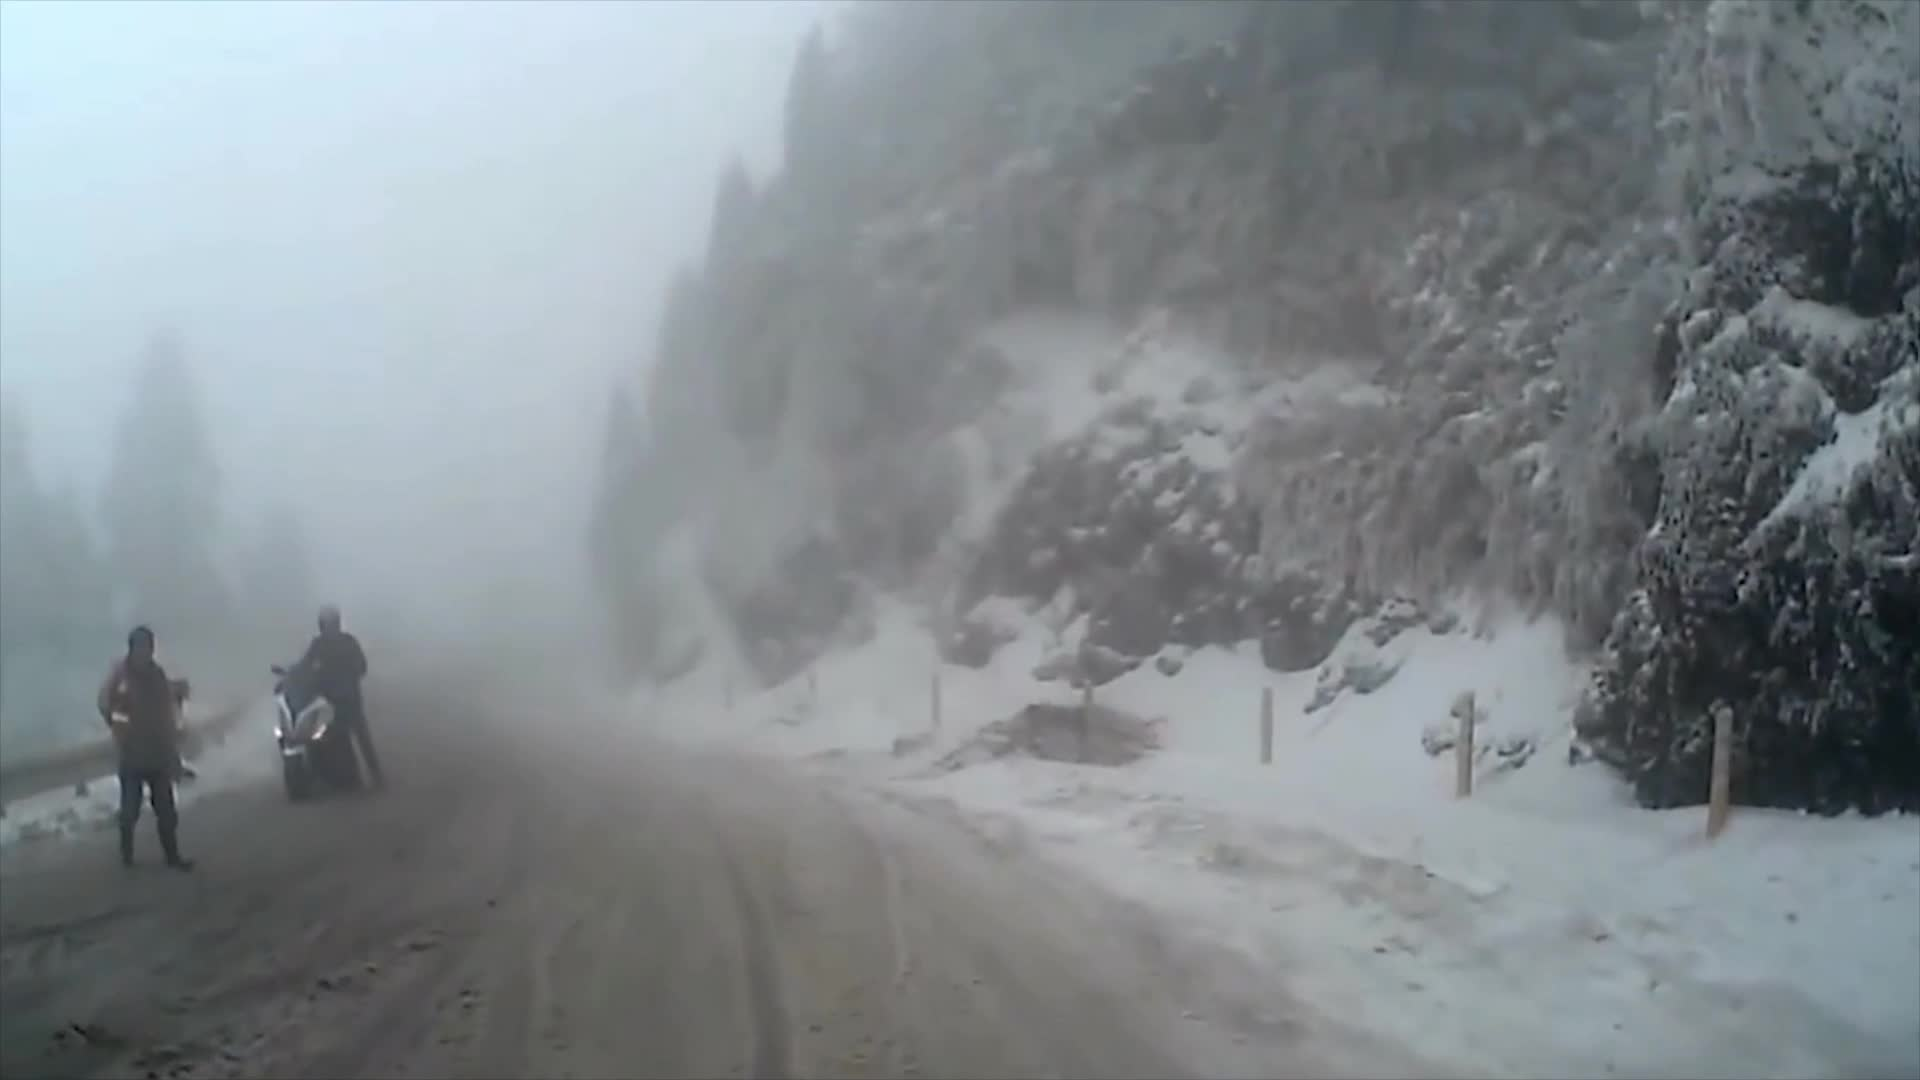pedestrian: (98, 626, 198, 873), (288, 606, 396, 809)
